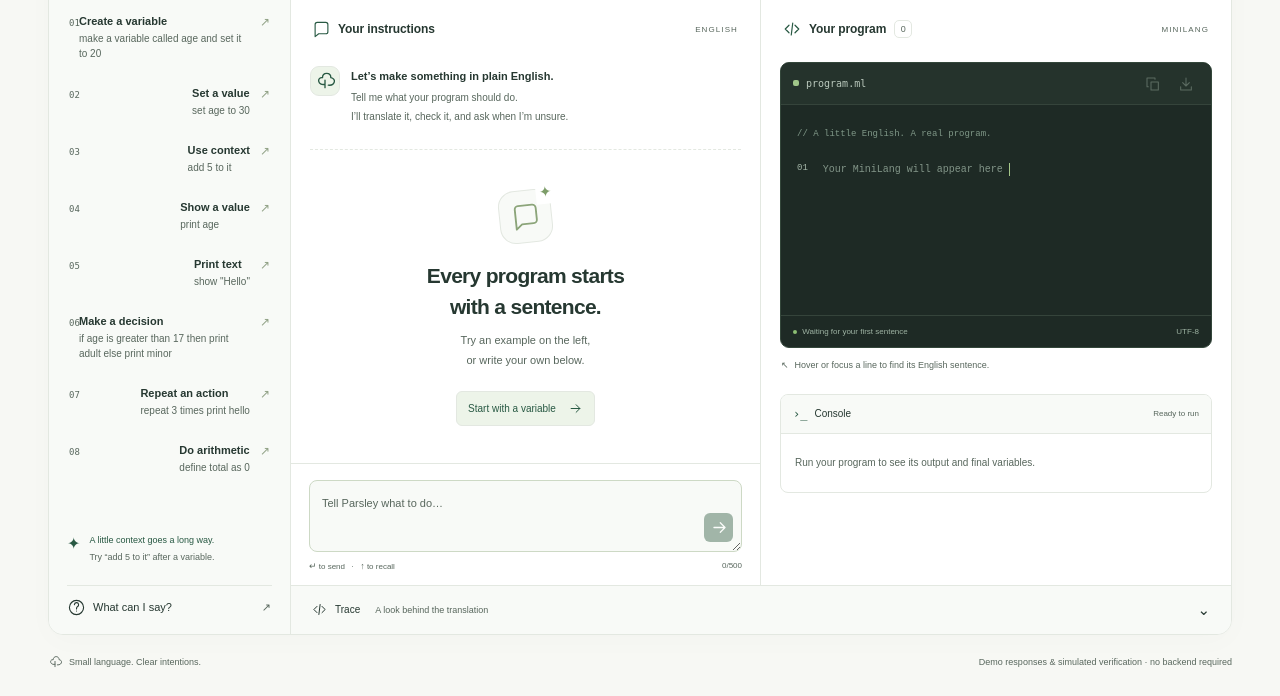
backend decision UI › shows each W510–W514 warning in a non-blocking toast and trace
The width and height of the screenshot is (1280, 696).
(page scrolled)
Type "print hello" into the text box named "English sentence" at {"x": 526, "y": 516}, box [309,480,742,552]
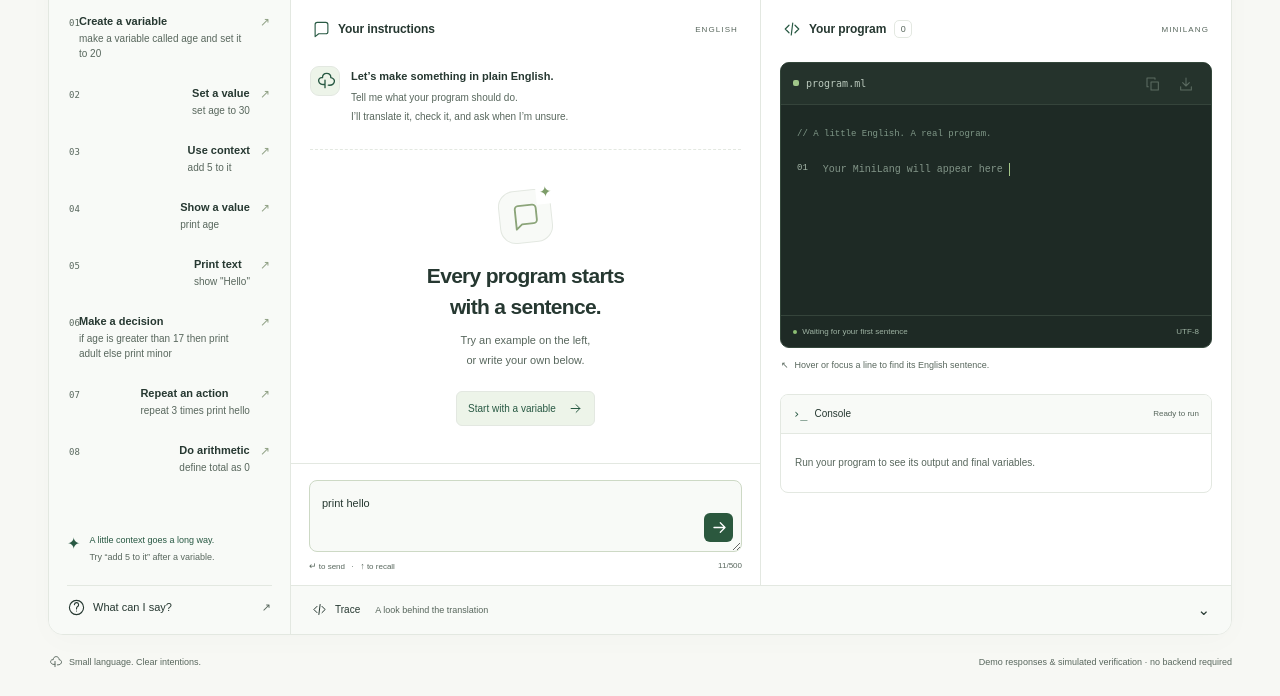
Press Enter in the text box named "English sentence", box [309,480,742,552]
(page scrolled)
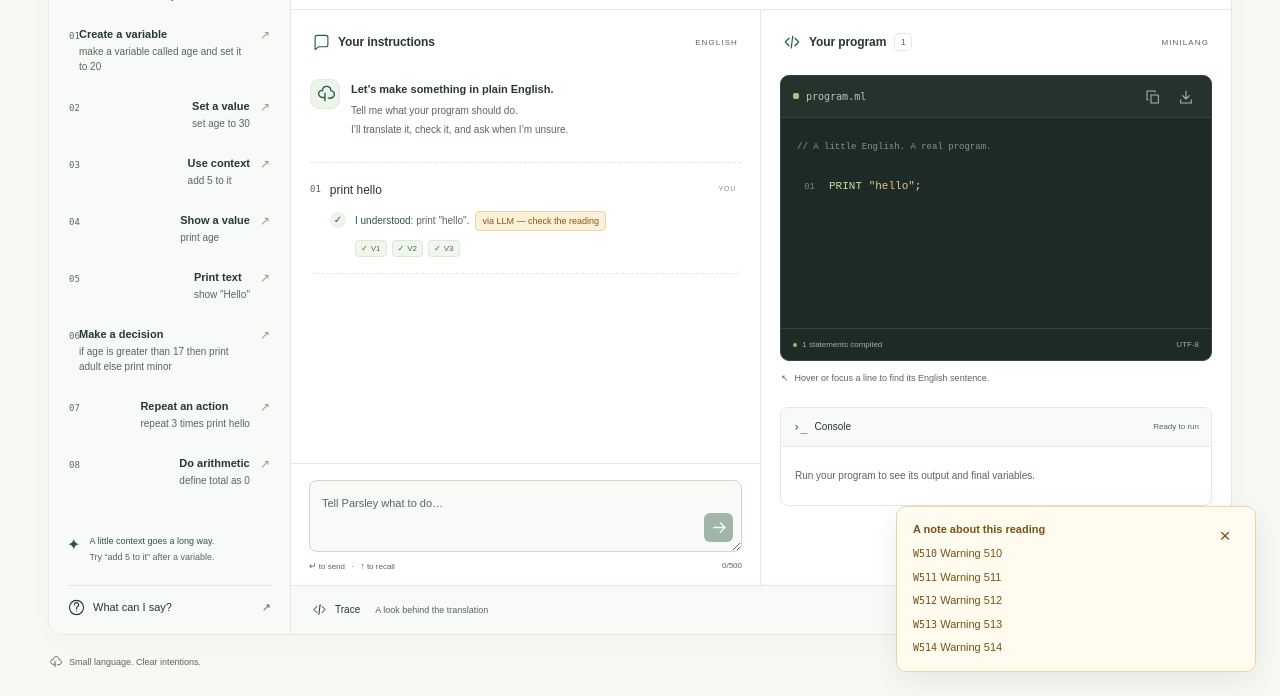
Expected: the message named "Compiler warnings" shows "W510", [913,548,937,559]
Expected: the message named "Compiler warnings" shows "W513", [913,619,937,630]
Expected: the message named "Compiler warnings" shows "W514", [913,642,937,653]
